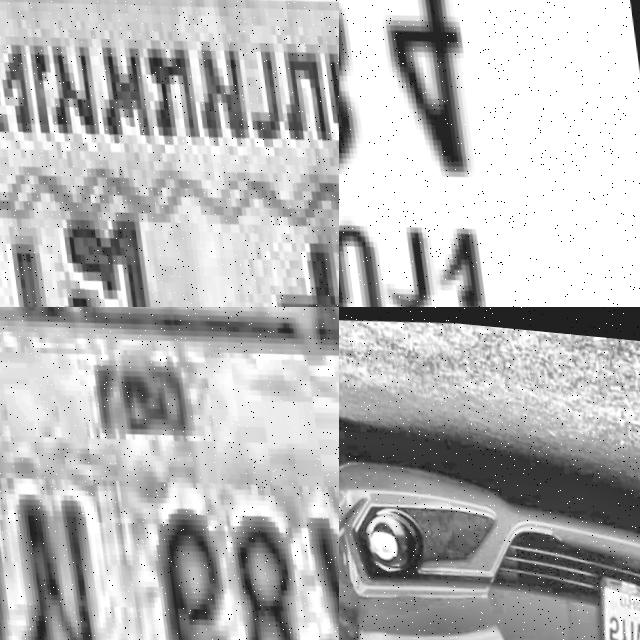license-plate: (0, 307, 339, 640), (0, 0, 339, 307), (339, 0, 640, 307), (581, 558, 640, 640)
